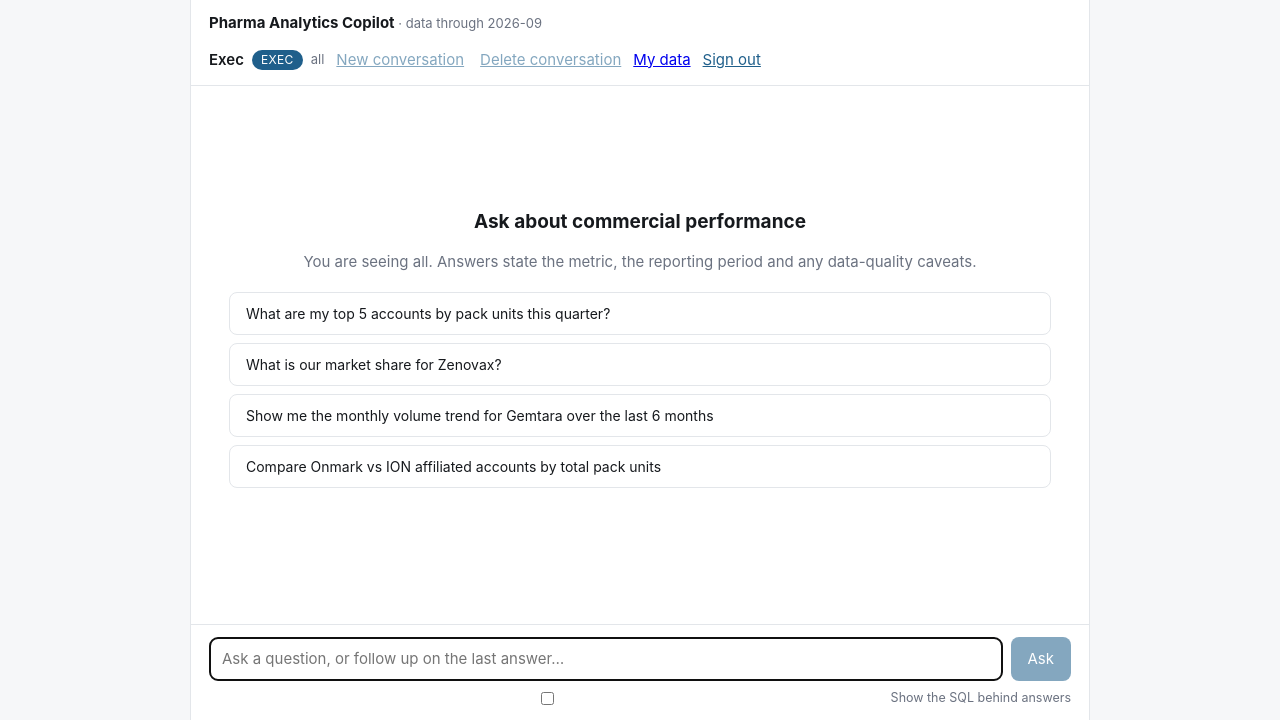
Test: API v2 in the interface › says when an answer was not saved to the conversation
expect the button "New conversation" is shown: met, box [332,46,468,73]
Type "total volume" into the field with placeholder "Ask a question, or follow up on the last answer…". click: (606, 659)
box: [209,636,1002,681]
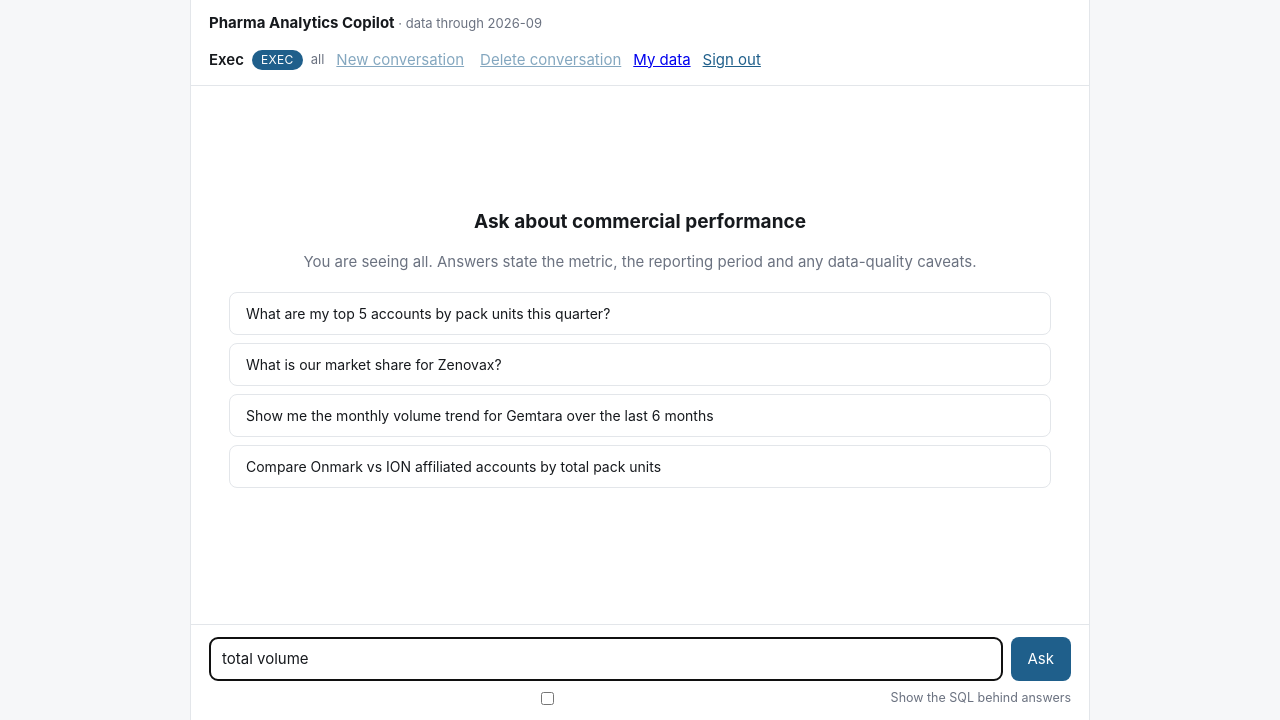
Click the button "Ask". click: (1041, 659)
box: [1010,636,1071,681]
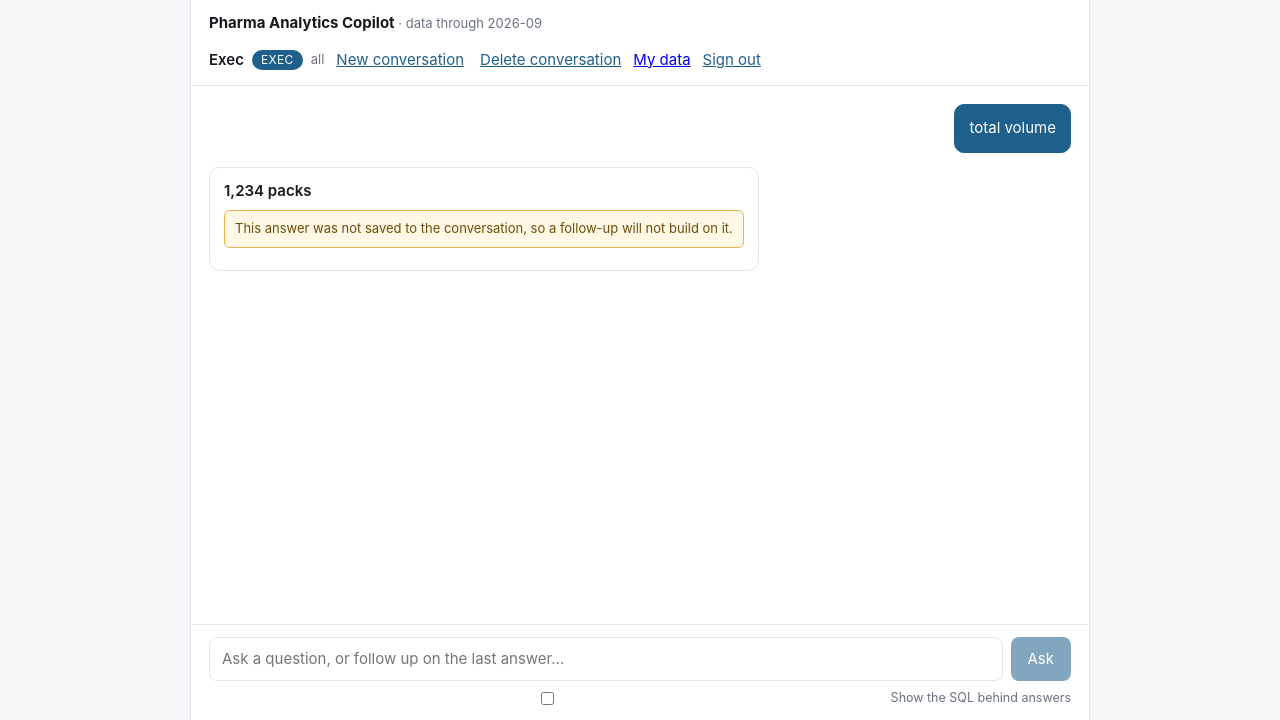
expect the text "was not saved to the conversation" is shown: met, box [235,220,733,236]
